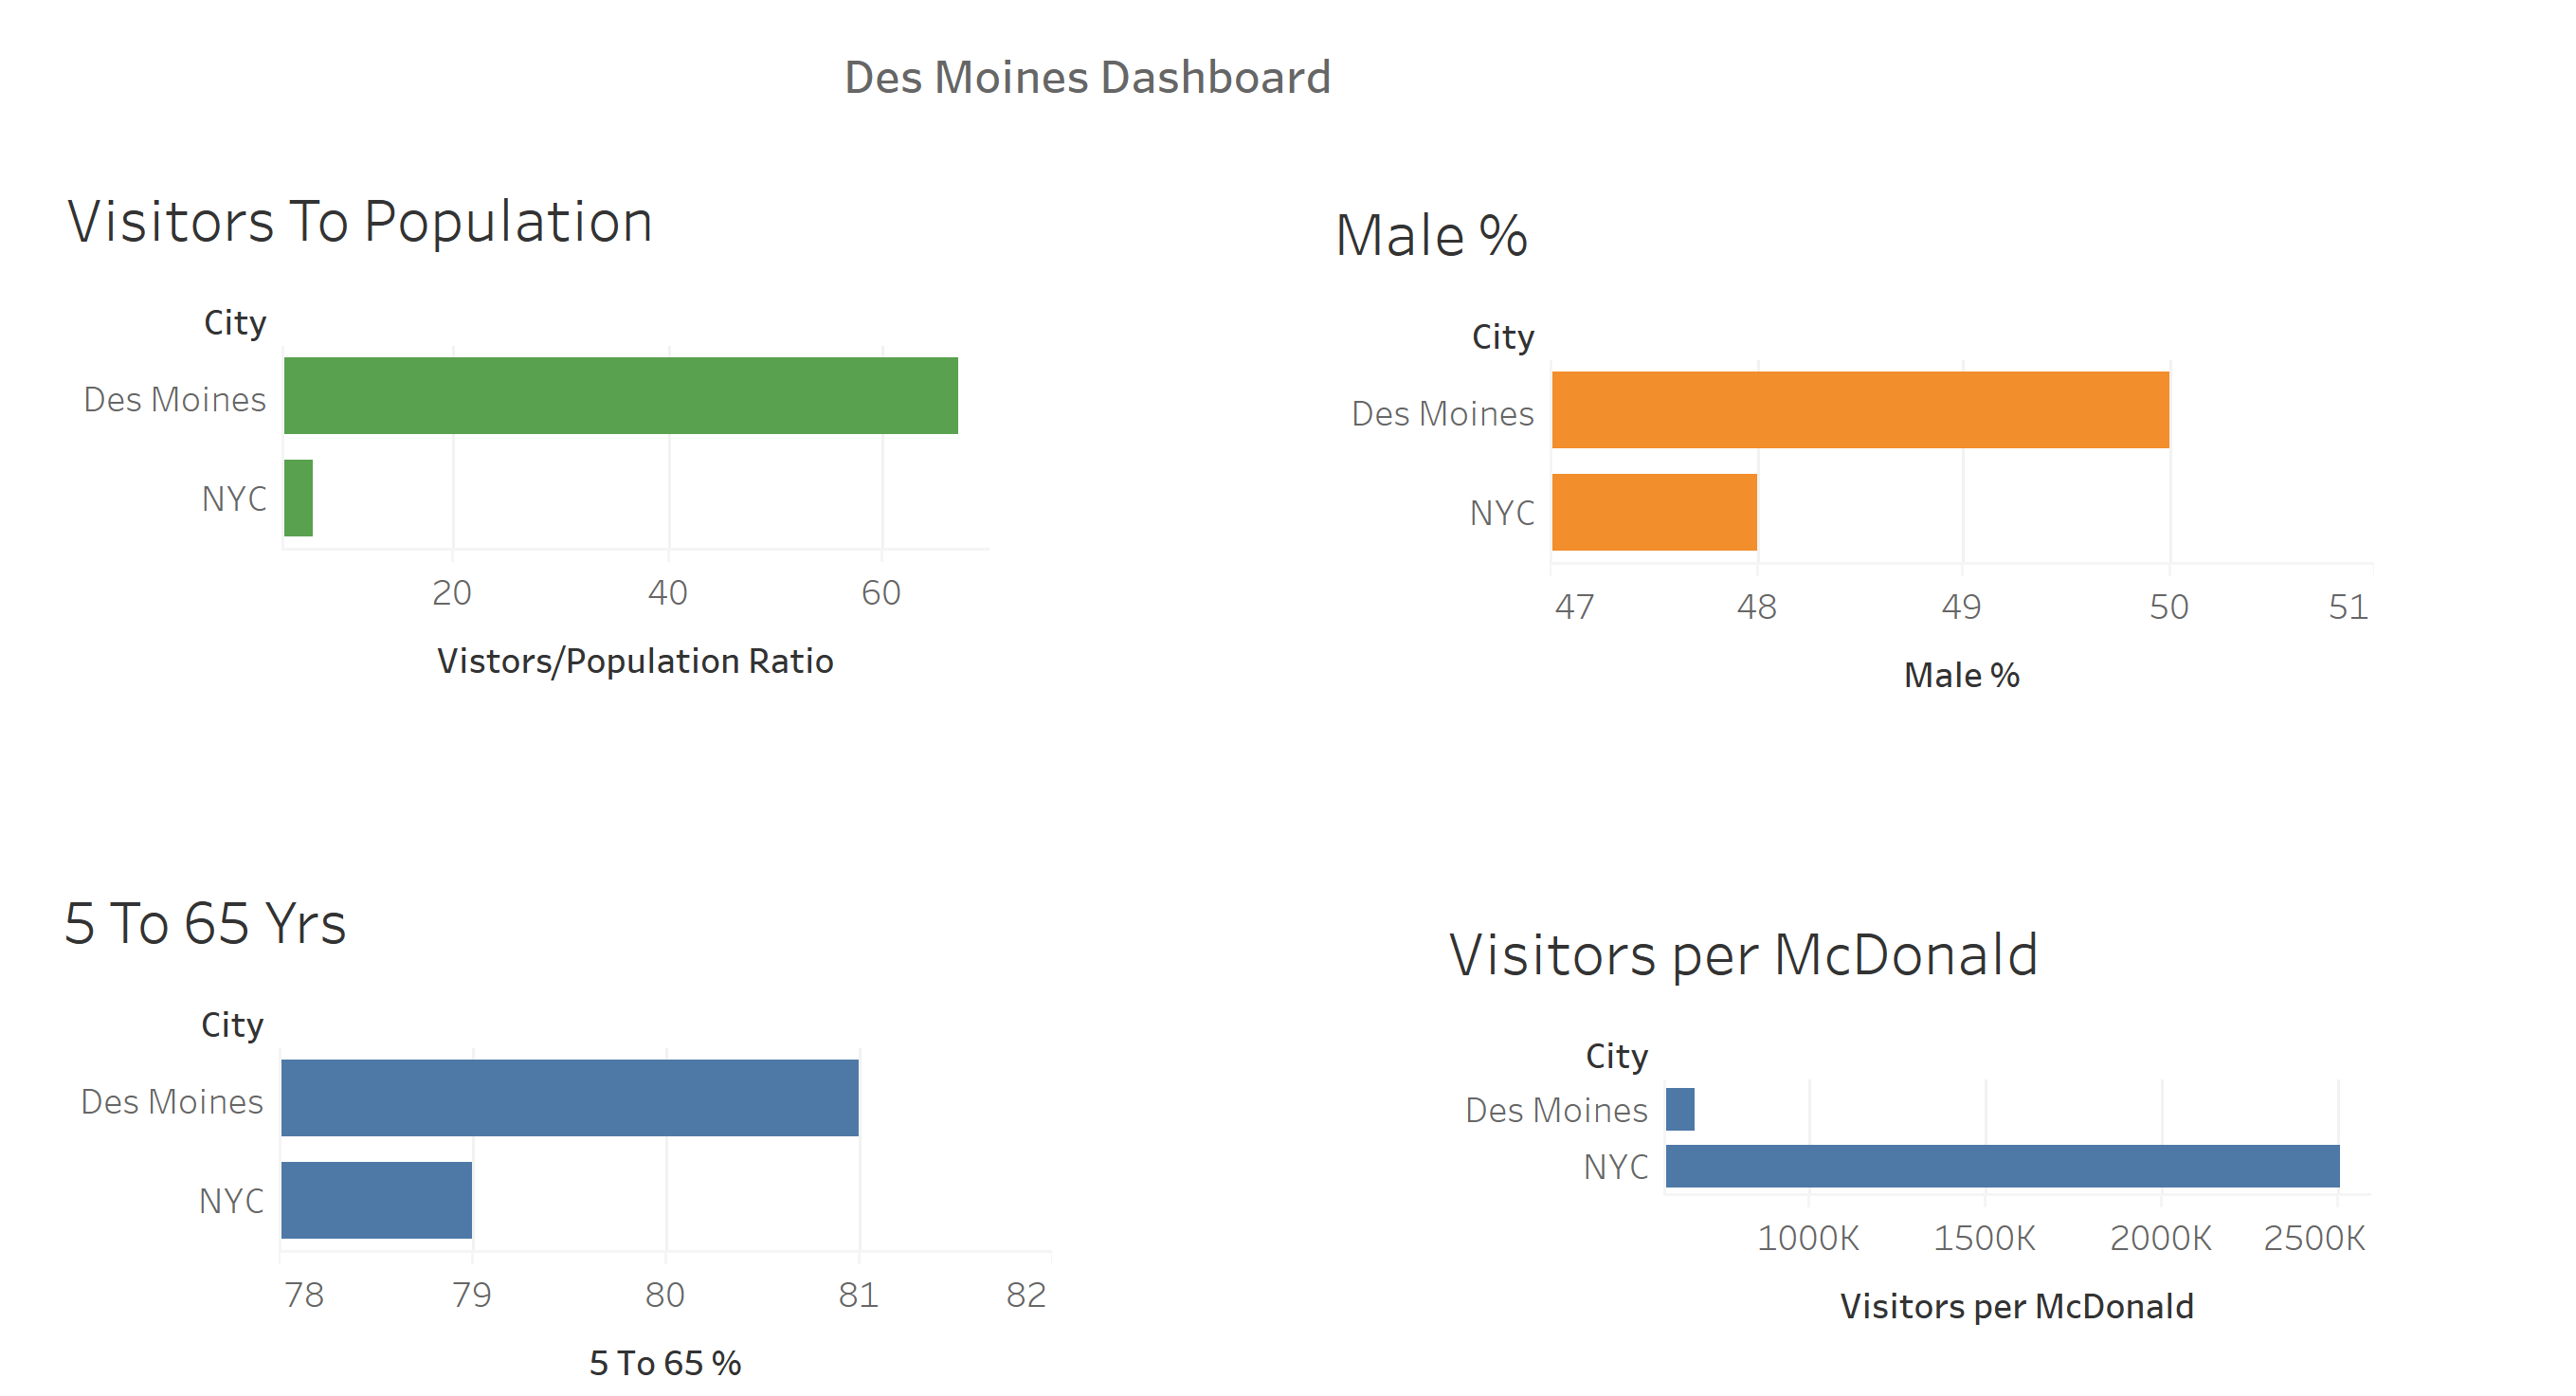

This screenshot's page, from the dashboard's own definition file:
{"tool":"tableau","page":{"name":"Des Moines","canvas":[1000,800],"ordinal":0},"visuals":[{"type":"worksheet","box":[311,11,246,30]},{"type":"worksheet","title":"Visitors To Population","mark":"Bar","rows":["City"],"cols":["Calculation_1017250578201194499"],"box":[36,58,329,189]},{"type":"worksheet","title":"Male %","mark":"Bar","rows":["City"],"cols":["Calculation_1017250578200858626"],"box":[482,63,370,189]},{"type":"worksheet","title":"5 To 65","mark":"Bar","rows":["City"],"cols":["Calculation_1017250578200317952"],"box":[35,305,352,189]},{"type":"worksheet","title":"Visitors per McDonald","mark":"Bar","rows":["City"],"cols":["Calculation_1017250578202472454"],"box":[522,316,329,189]}]}

Visuals, with their boxes on the page's 1000x800 design canvas (x1, y1, x2, y2). These are canvas units, not pixel positions in the 2576x1396 screenshot, which may show the page scaled, cropped or inside an application window:
worksheet: box=[311, 11, 557, 41]
"Visitors To Population" worksheet (Bar marks): box=[36, 58, 365, 247]
"Male %" worksheet (Bar marks): box=[482, 63, 852, 252]
"5 To 65" worksheet (Bar marks): box=[35, 305, 387, 494]
"Visitors per McDonald" worksheet (Bar marks): box=[522, 316, 851, 505]
